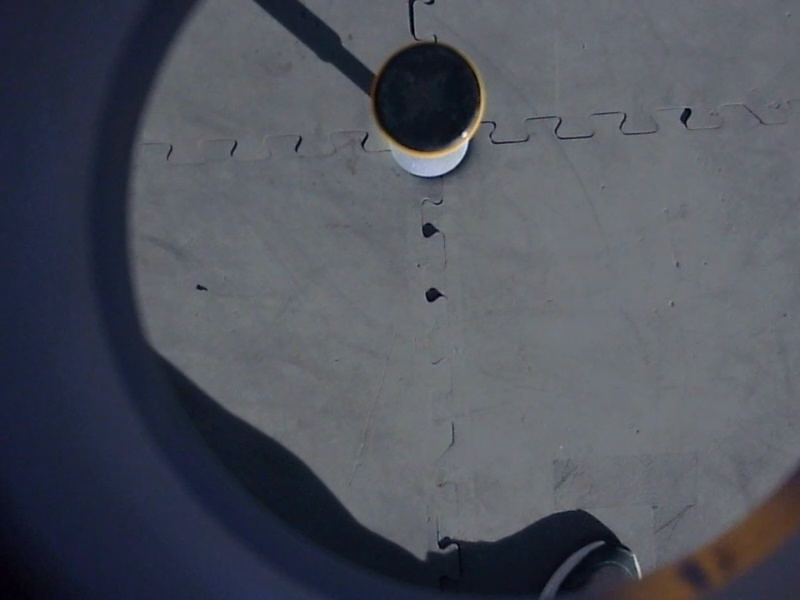tip: (366, 36, 491, 164)
